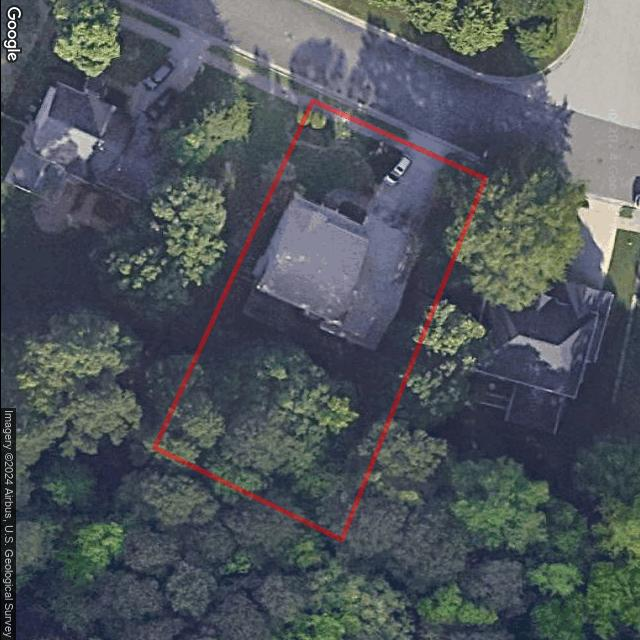Driveway: (365, 141, 443, 234)
Extra-Driveway: (405, 129, 454, 156)
Extra-Lawn: (312, 91, 406, 142), (443, 151, 488, 179)
House: (253, 194, 423, 351)
Lawn: (155, 100, 485, 541)
Other: (293, 110, 401, 190), (241, 289, 358, 362), (261, 160, 304, 222)
Sidewalk: (308, 102, 406, 152), (323, 186, 372, 214), (444, 162, 484, 189)
